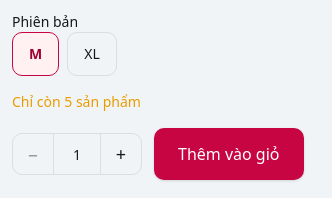
Scenario: <AddToCart /> › resets the quantity when the variant changes
What coordinates should you click on to do the following:
click the button named "Tăng số lượng"
I would click on:
 (121, 154)
Its box is [101, 134, 141, 174].
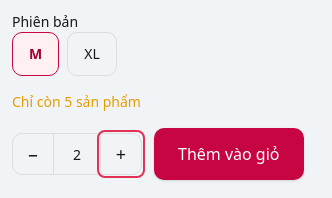
Expected: the number field named "Số lượng" holds "2", [53, 134, 101, 174]
What coordinates should you click on to do the following:
click the radio button labelled "XL"
I would click on:
 (92, 54)
Its box is [67, 32, 117, 76].
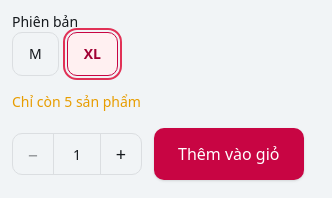
Expected: the number field named "Số lượng" holds "1", [53, 134, 101, 174]
